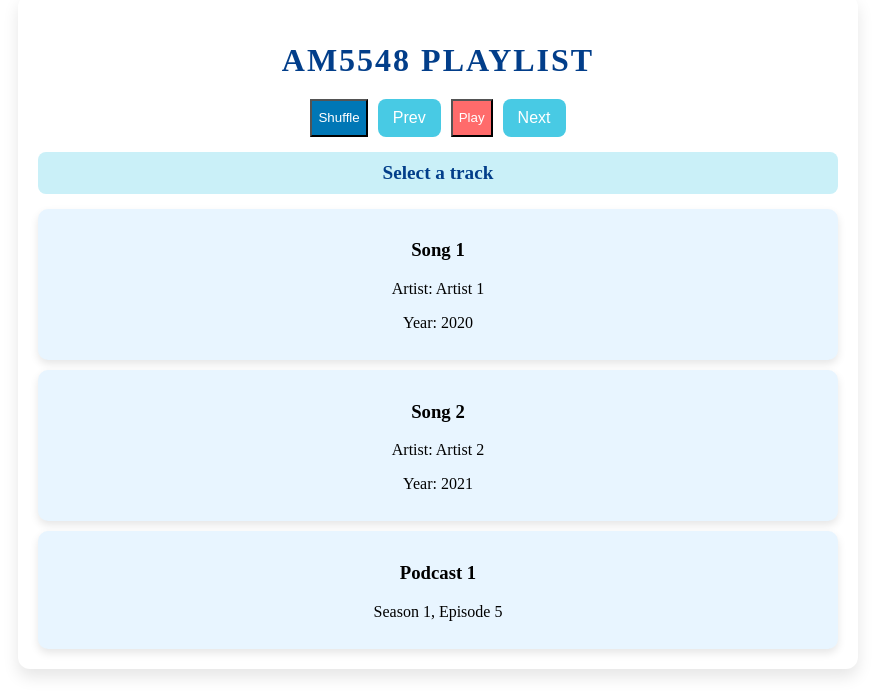
Test: Playlist Component › displays status correctly when a song is double-clicked
Double-click the heading "Song 1": (438, 250) x1=411 y1=239 x2=465 y2=260
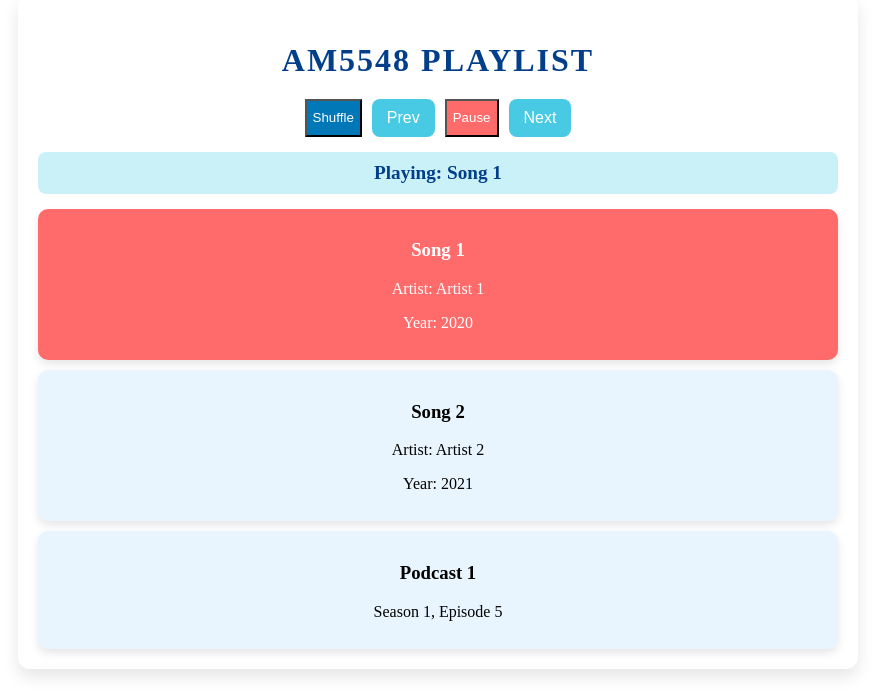
Expected: the text "Playing: Song 1" is shown, x1=38 y1=152 x2=838 y2=194
